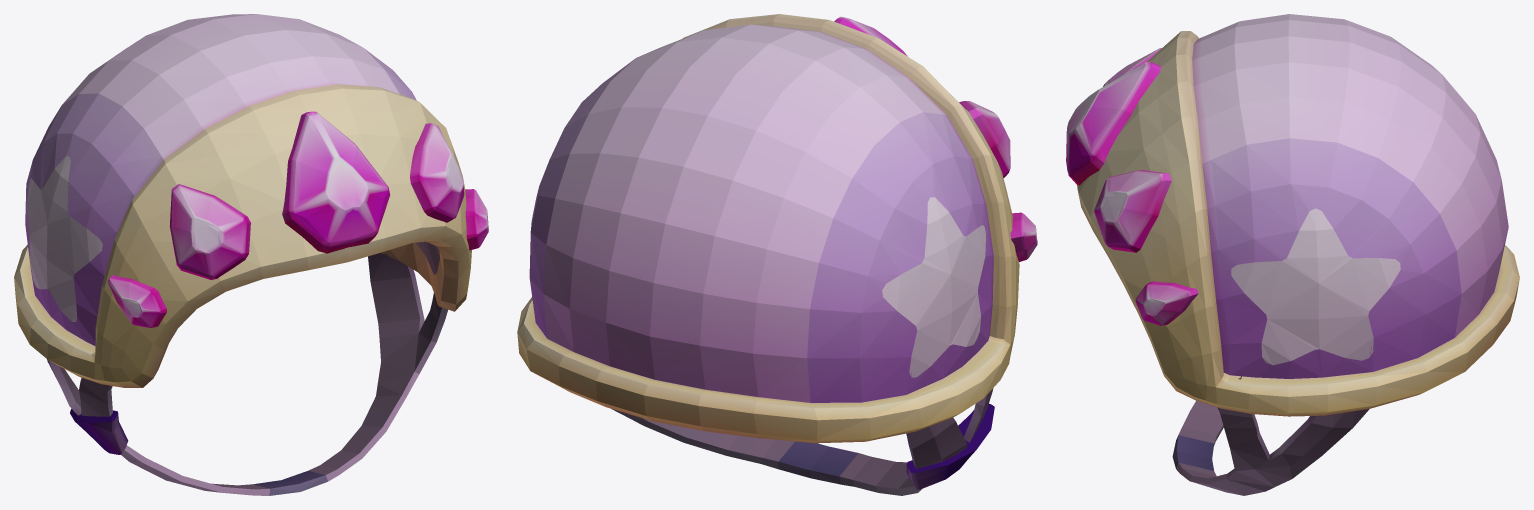
File: GymnastAngelaHelmet.glb
3 views of the same model, side by side, from view 1: azimuth 30°, elevation 25°; view 2: azimuth 150°, elevation 25°; view 3: azimuth 270°, elevation 25° (orthographic). The views are drawn at different scales.
Parts seen in each view (by area): view 1: GymnastAngelaHelmet; view 2: GymnastAngelaHelmet; view 3: GymnastAngelaHelmet.
Boxes of the visible parts, x1,y1,x2,y2 form: GymnastAngelaHelmet: [14, 14, 488, 495]; GymnastAngelaHelmet: [517, 14, 1037, 495]; GymnastAngelaHelmet: [1066, 14, 1519, 495].
Size of the model in its own units: 0.5562 by 0.5762 by 0.5492.
